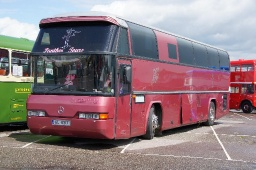bus: (26, 14, 232, 142)
